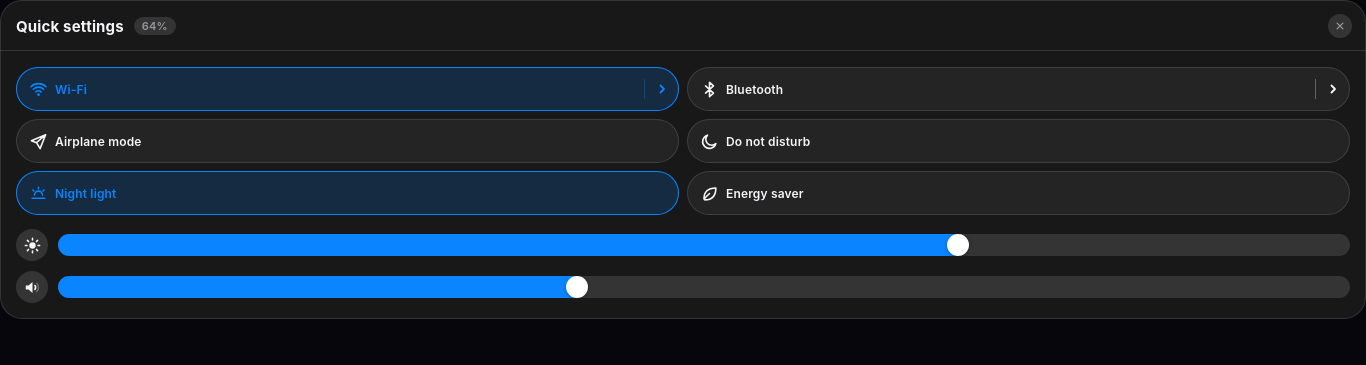
Test: a setting that refuses says why
Click the switch labelled "Energy saver" at (765, 193), box [687,171,1350,215]
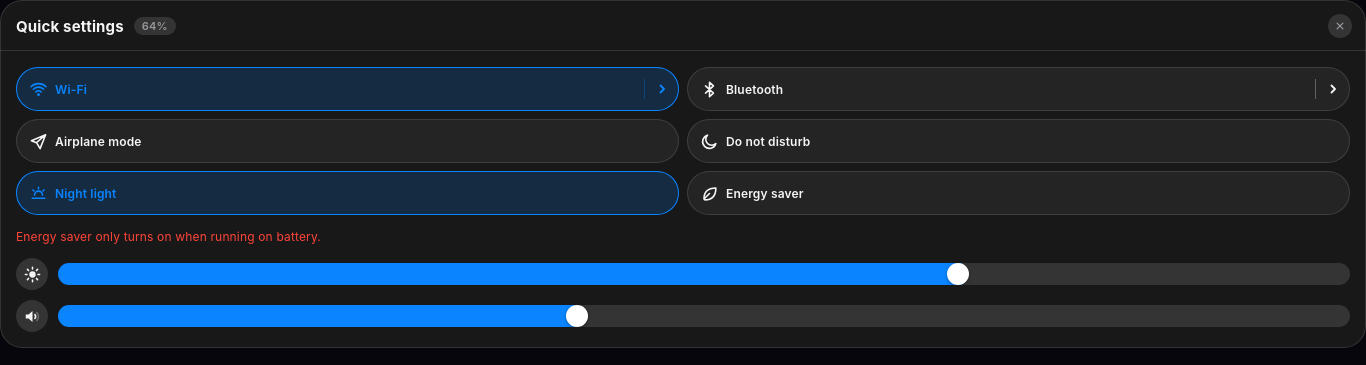
Expected: the text "Energy saver only turns on when running on battery." is shown, [16,229,321,244]
